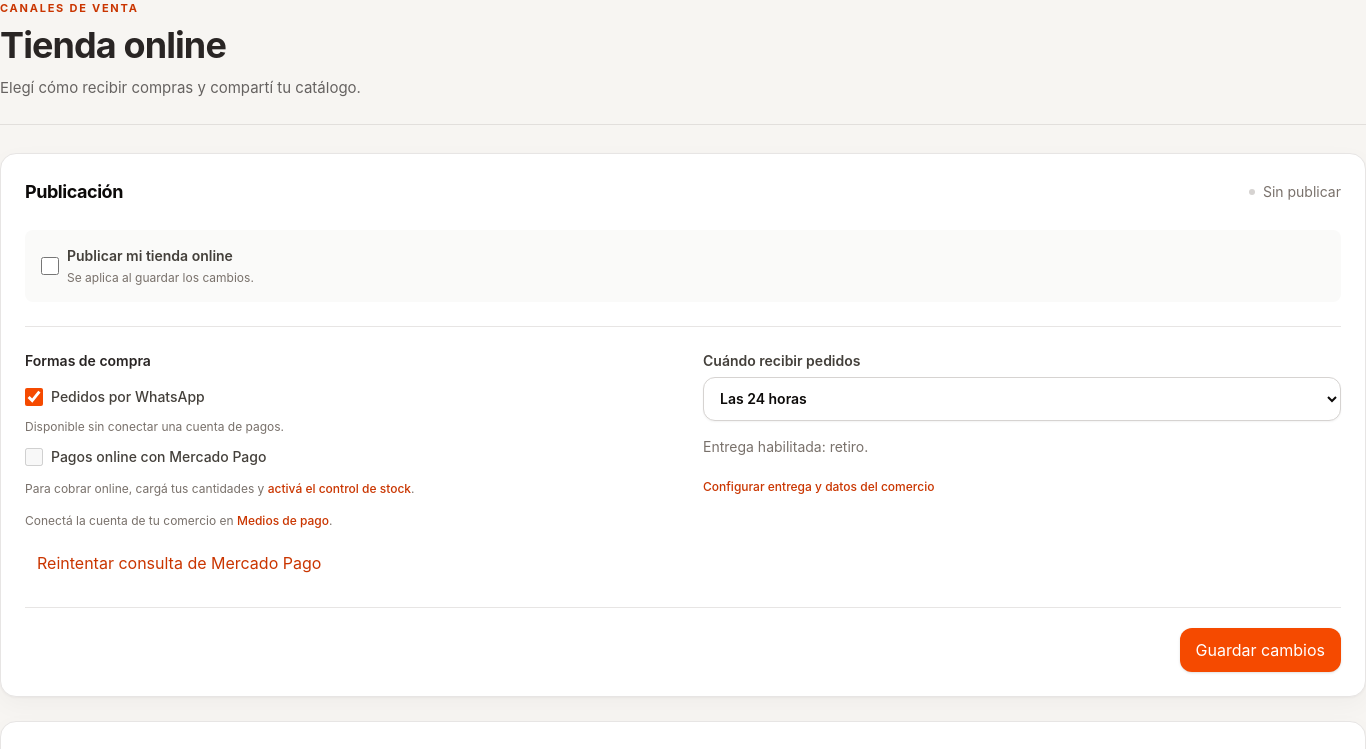
Test: StoreSettingsPage › still publishes WhatsApp-only when the provider status request fails
Expected: the button "Reintentar consulta de Mercado Pago" is shown, top-left (25, 542), bottom-right (333, 582)
What coordinates should you click on to do the following:
click the checkbox labelled "Publicar mi tienda online Se aplica al guardar los cambios."
I would click on:
 (50, 266)
Its box is top-left (41, 256), bottom-right (59, 274).
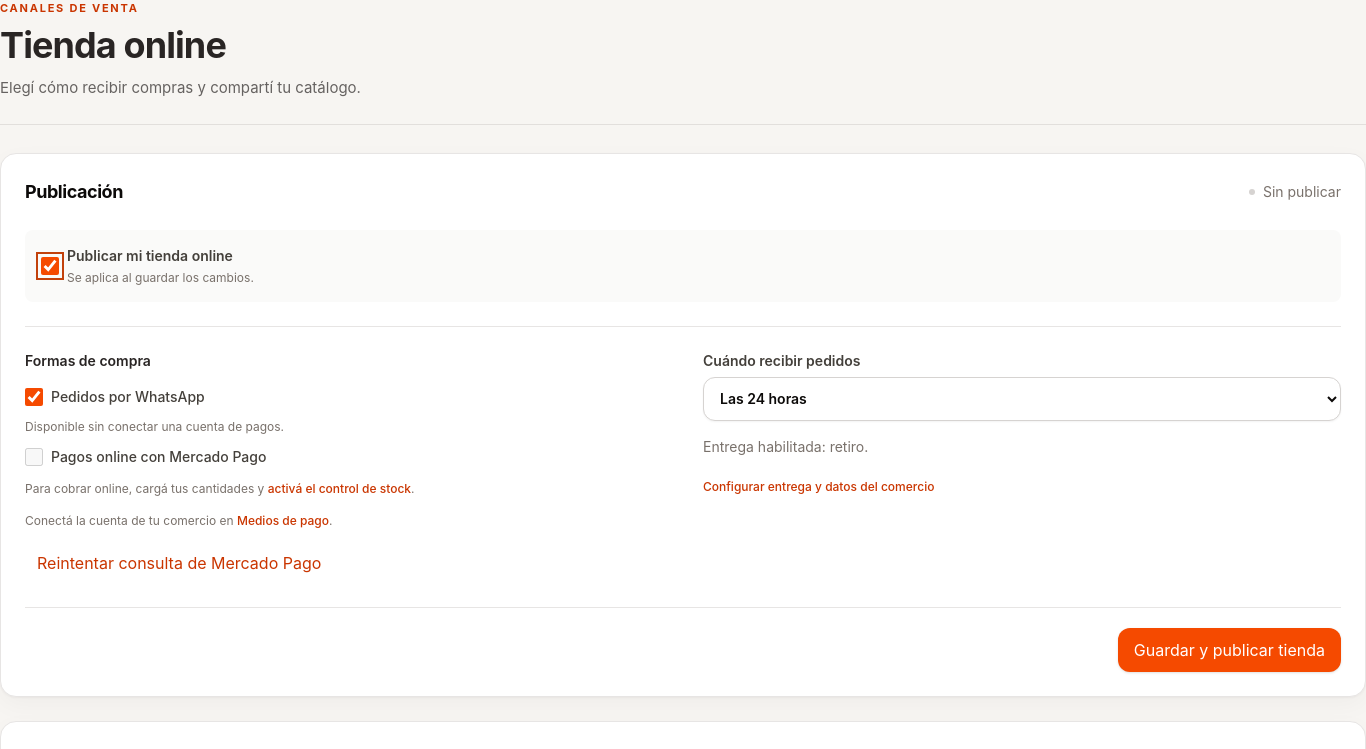
What coordinates should you click on to do the following:
click the button "Guardar y publicar tienda"
I would click on:
 (1229, 650)
Its box is top-left (1118, 628), bottom-right (1341, 672).
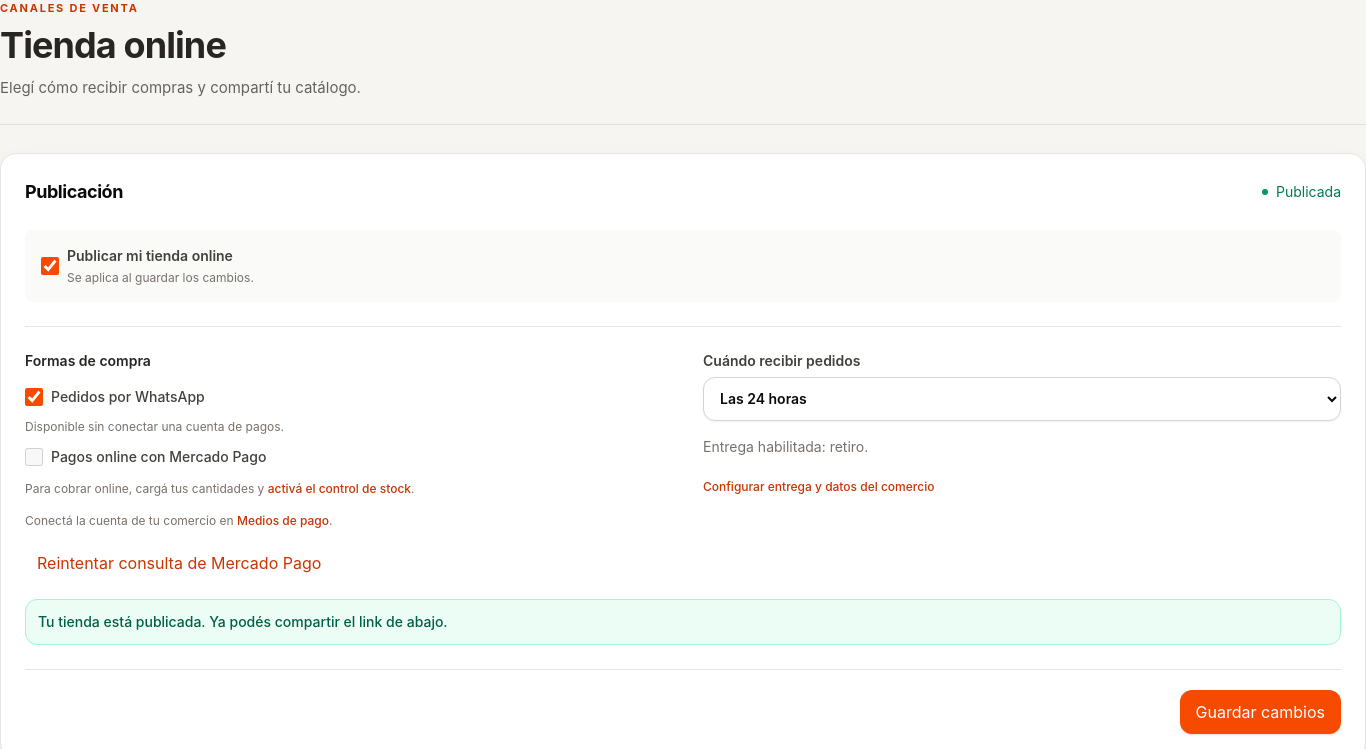
Result: the message shows "Tu tienda está publicada" at top-left (38, 612), bottom-right (448, 630)
